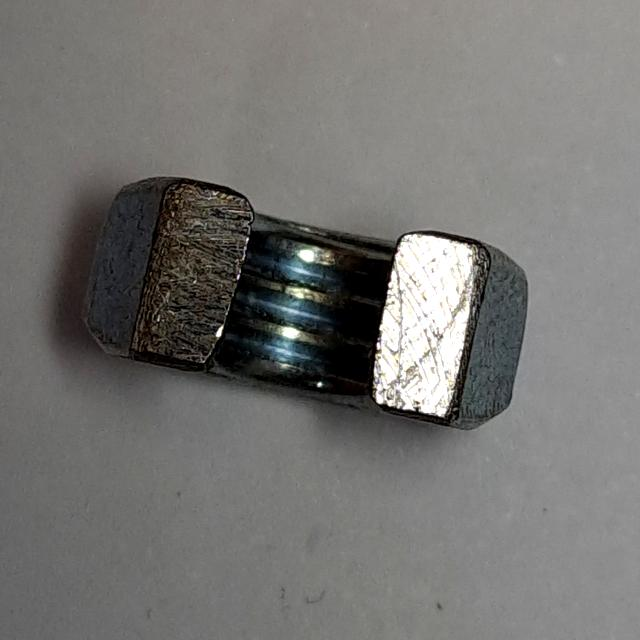Side-Fracture: (70, 164, 541, 449)
